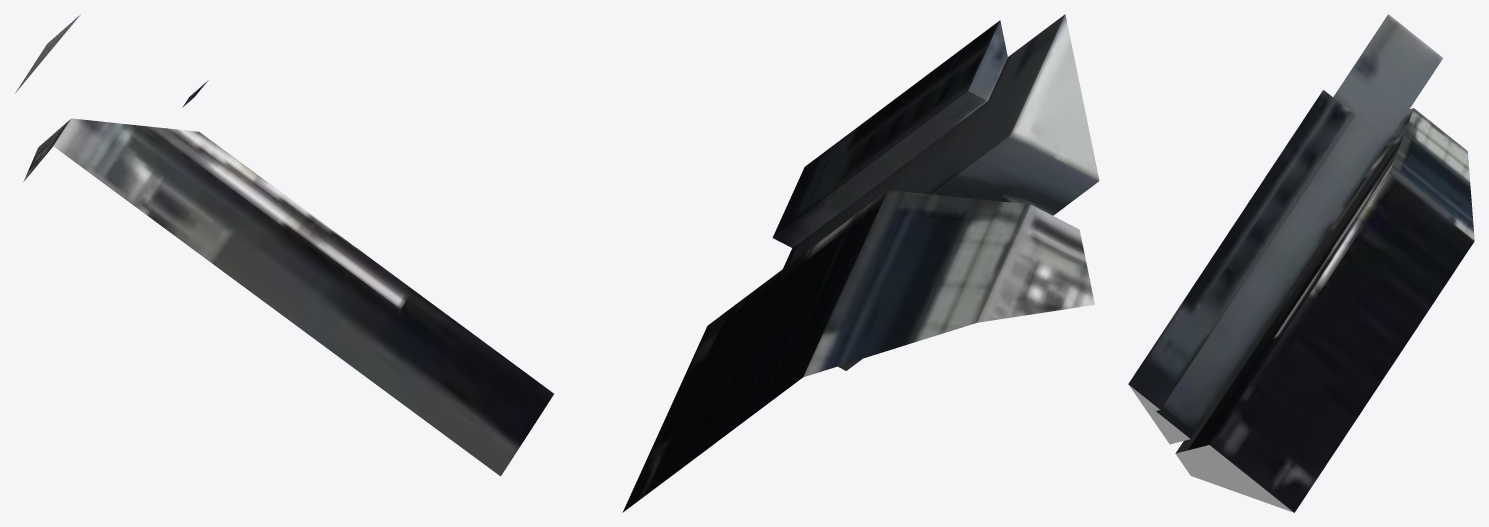
File: 39527_bldg_Building.glb
3 views of the same model, side by side, from view 1: azimuth 30°, elevation 25°; view 2: azimuth 150°, elevation 25°; view 3: azimuth 270°, elevation 25° (orthographic). The views are drawn at different scales.
Size of the model in its own units: 26.66 by 29.52 by 25.53.
Materials: 2 (1 with a texture image).
